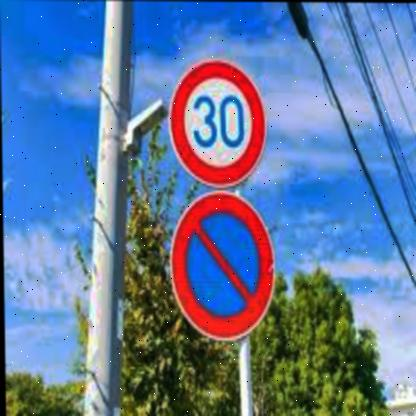No parking: (167, 191, 275, 350)
